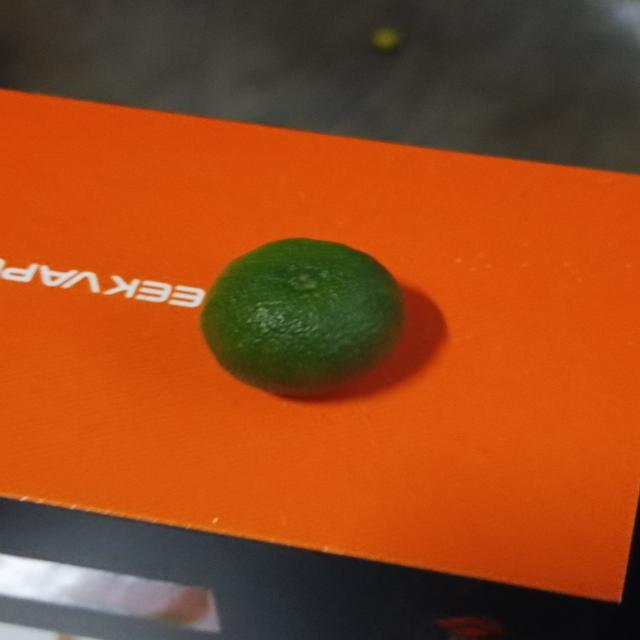heathy: (193, 228, 430, 409)
